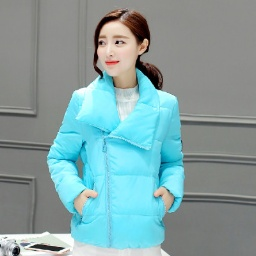face: (85, 6, 163, 92)
